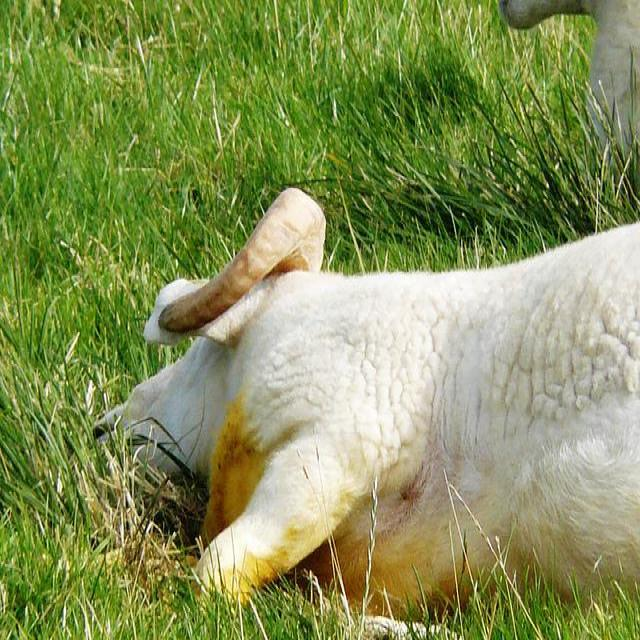Sheep: (88, 176, 639, 627)
